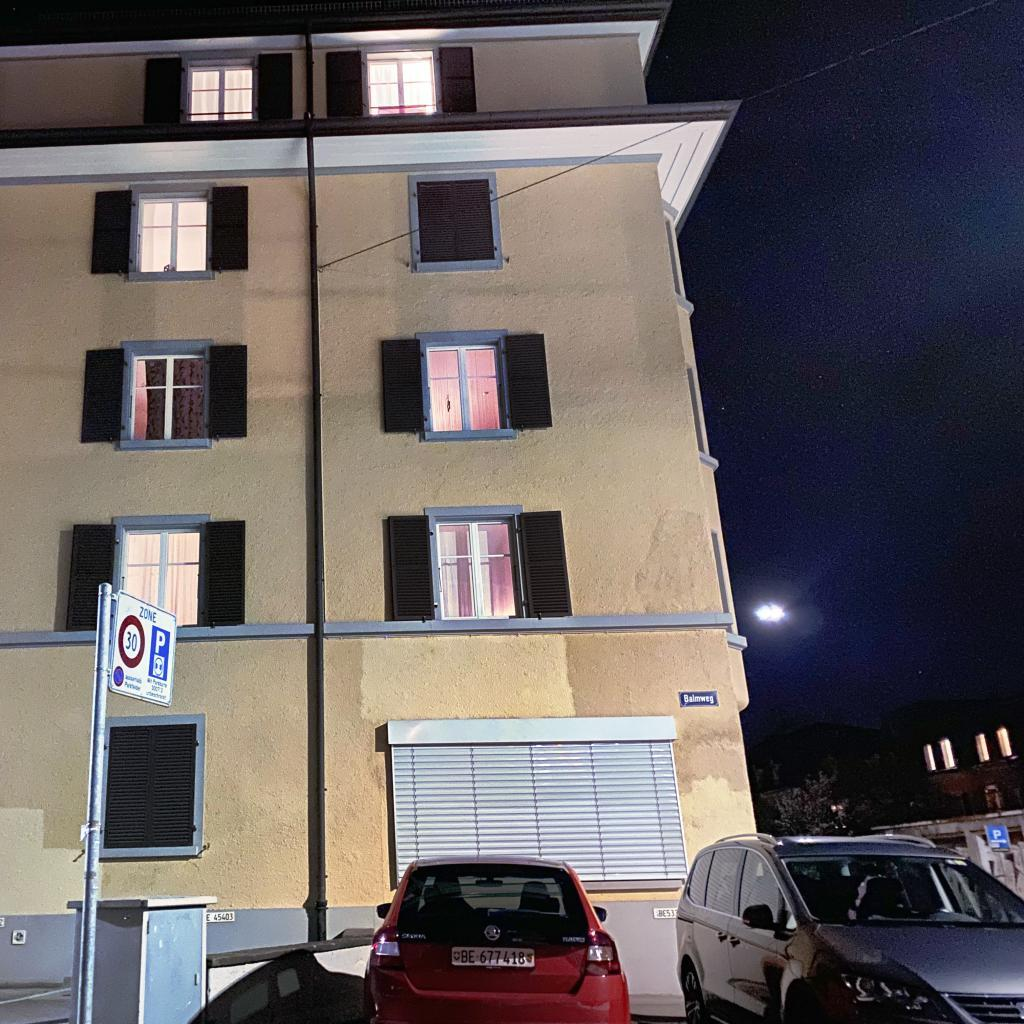car: (675, 833, 1024, 1024), (362, 858, 632, 1024)
facade: (0, 0, 1024, 1018)
fence: (66, 895, 375, 1024), (856, 808, 1024, 898)
street: (0, 978, 69, 1024)
traffic-infrastructure: (76, 581, 177, 1024), (983, 824, 1012, 886)
vegetation: (749, 749, 954, 834)
window: (390, 739, 690, 886), (102, 722, 198, 850), (433, 518, 523, 621), (122, 526, 202, 626), (425, 342, 506, 433), (416, 178, 496, 264), (130, 352, 207, 441), (138, 198, 209, 273), (365, 49, 437, 116), (188, 63, 254, 121), (936, 736, 958, 769), (995, 724, 1014, 758), (973, 731, 992, 764), (922, 743, 937, 772)
